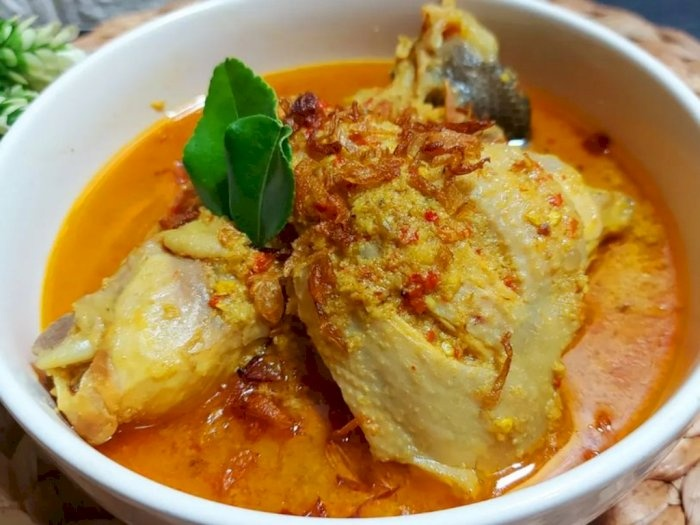gulai_ayam: (29, 32, 686, 511)
